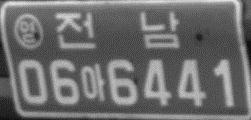0: (16, 57, 48, 105)
1: (208, 59, 239, 108)
4: (143, 59, 172, 107), (177, 59, 206, 106)
6: (107, 58, 138, 106), (49, 58, 80, 105)
아: (79, 63, 106, 101)
영: (12, 13, 43, 49)
전남_D: (54, 11, 181, 51)
